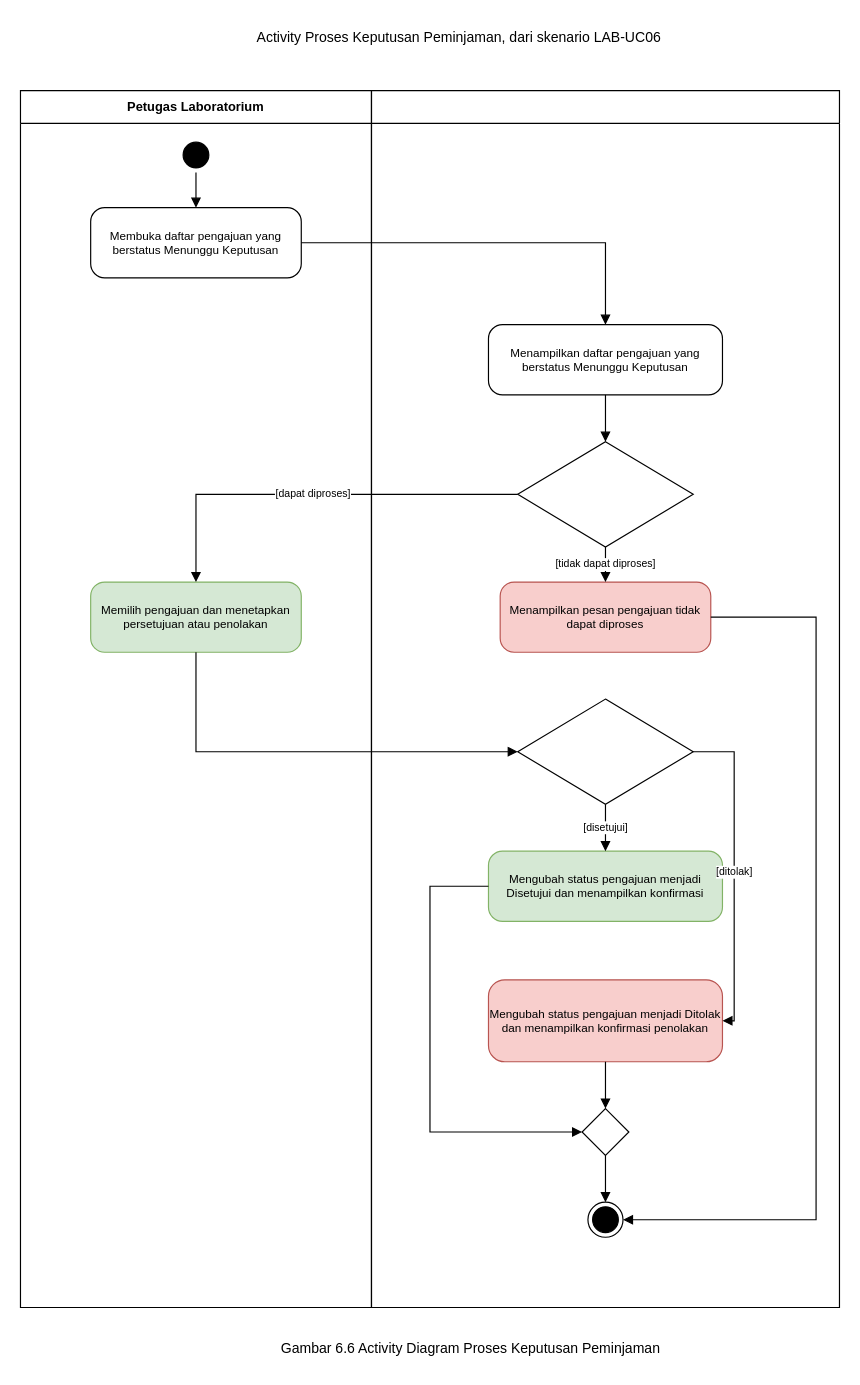
Some shapes in this 860 by 1385 pixel diagram are drawn without their labels. The box of each missing label's shape, as (x1, y1, x2, y2) in pixels:
Pengajuan dapat diproses?: (517, 441, 693, 547)
Pengajuan disetujui?: (517, 698, 693, 804)
Sistem: (370, 90, 839, 1307)
